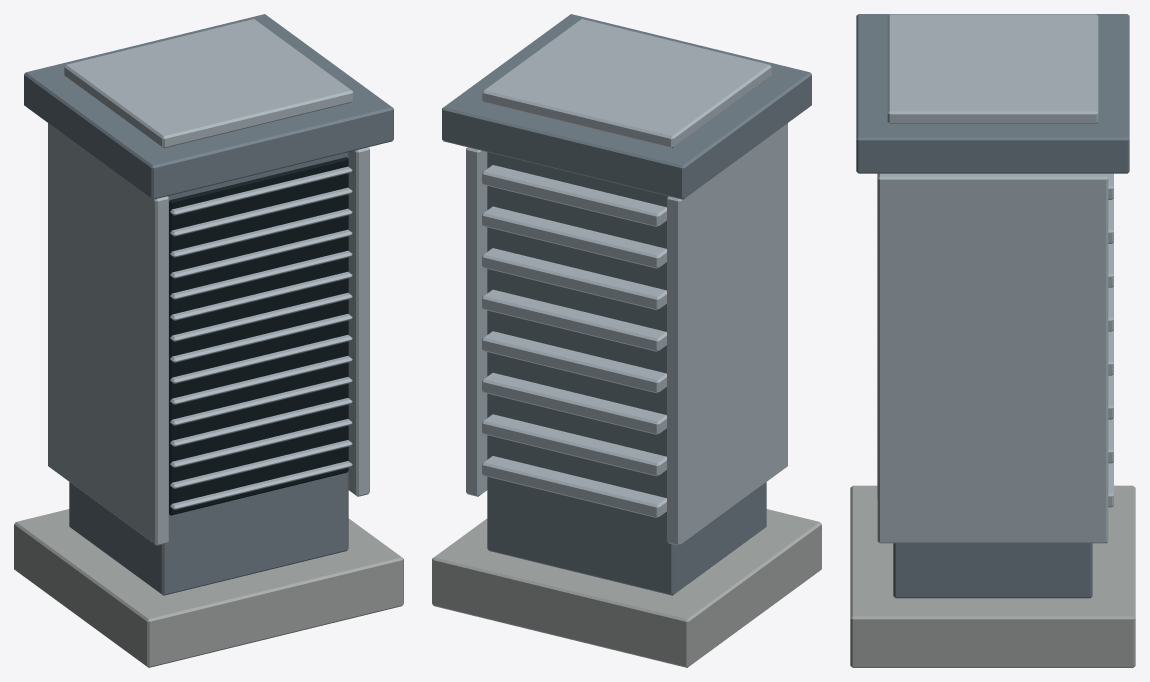
Rendered from b05_louvered_air_intake_tower.glb.
The picture shows the model from 3 angles, left to right: view 1: azimuth 30°, elevation 25°; view 2: azimuth 150°, elevation 25°; view 3: azimuth 270°, elevation 25°; orthographic projection. The views are drawn at different scales.
Visible parts, largest first — view 1: b05_louvered_air_intake_tower; view 2: b05_louvered_air_intake_tower; view 3: b05_louvered_air_intake_tower.
Part boxes in pixels (left/top/right/bottom): b05_louvered_air_intake_tower: left=14, top=14, right=403, bottom=667; b05_louvered_air_intake_tower: left=432, top=14, right=821, bottom=667; b05_louvered_air_intake_tower: left=850, top=14, right=1135, bottom=667.
Size of the model in its own units: 1.1 by 2.09 by 1.
